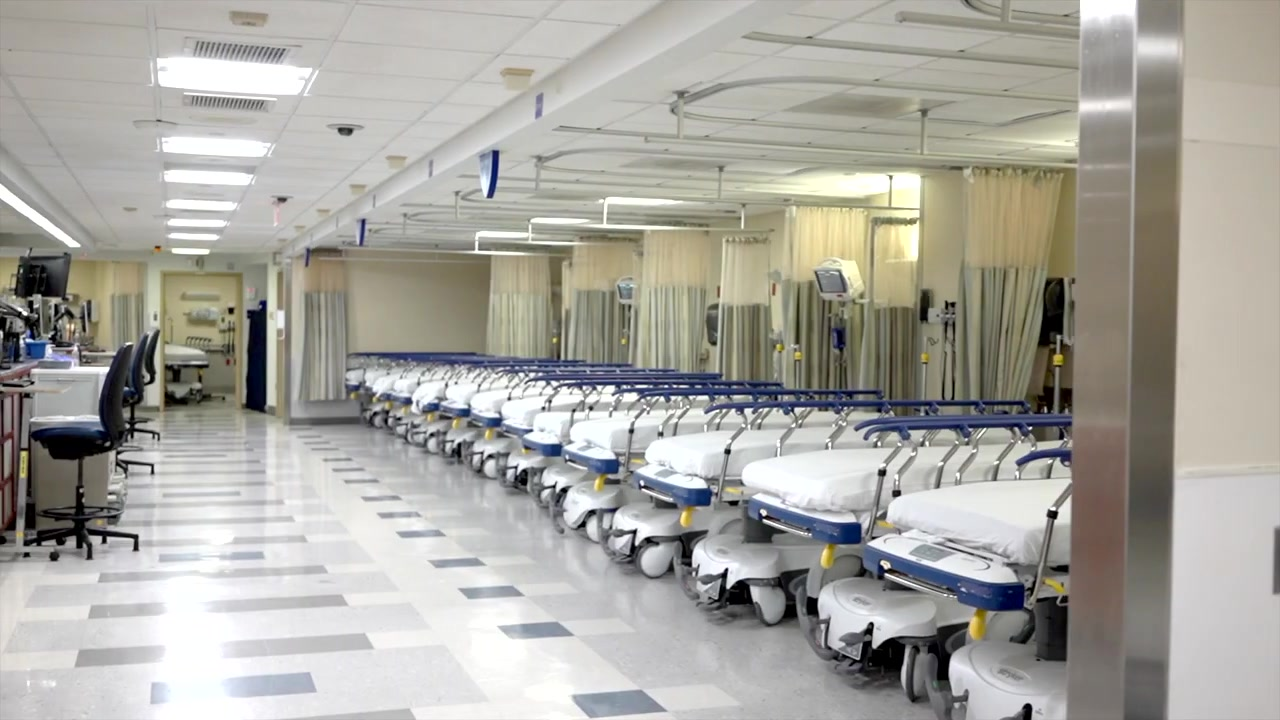TV: (9, 253, 72, 296)
bedrail: (704, 398, 1045, 500), (863, 419, 1073, 540), (610, 386, 888, 473), (751, 400, 1072, 456), (625, 389, 908, 446), (553, 380, 790, 422), (1015, 449, 1071, 610), (524, 374, 732, 414), (447, 365, 681, 396), (854, 417, 1071, 447), (399, 357, 578, 385), (415, 359, 595, 385), (350, 352, 504, 367), (183, 333, 211, 352)
bedside_monitor: (811, 258, 860, 301), (614, 277, 641, 304)
chair: (31, 342, 139, 563), (123, 334, 160, 444), (142, 330, 167, 422)
computer: (81, 302, 89, 333)
curtain: (961, 167, 1063, 410), (784, 203, 878, 397), (860, 207, 925, 413), (637, 221, 709, 372), (568, 235, 638, 364), (721, 234, 777, 382), (486, 246, 558, 360), (298, 249, 350, 404), (110, 263, 146, 351)
hospital_bed: (742, 403, 1072, 700), (637, 390, 1030, 627), (625, 390, 955, 589), (864, 417, 1071, 720), (553, 382, 882, 550), (502, 369, 779, 533), (523, 379, 786, 543), (471, 360, 717, 518), (442, 367, 677, 493), (413, 357, 587, 476), (392, 353, 552, 453), (375, 353, 520, 440), (345, 350, 477, 422), (164, 330, 213, 406)
iv_pole: (1054, 333, 1073, 418), (919, 335, 939, 413), (789, 341, 803, 388), (771, 334, 783, 381), (550, 323, 559, 360), (622, 326, 629, 364)
keyboard: (88, 348, 106, 353)
